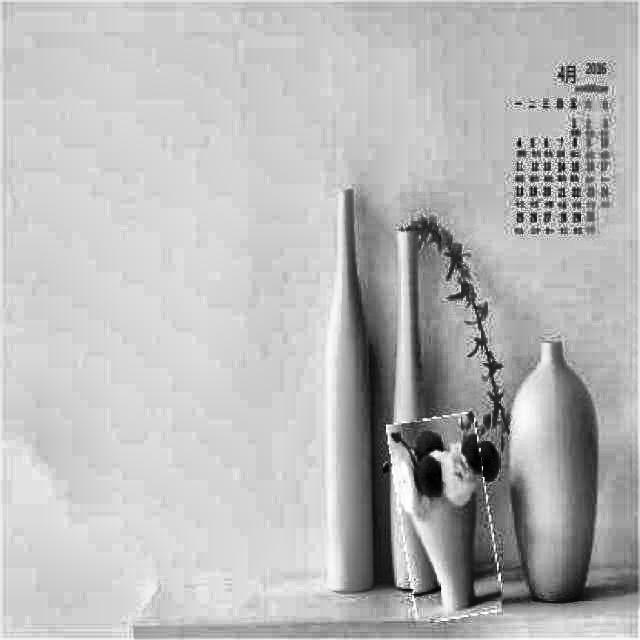plants: (394, 416, 496, 622)
